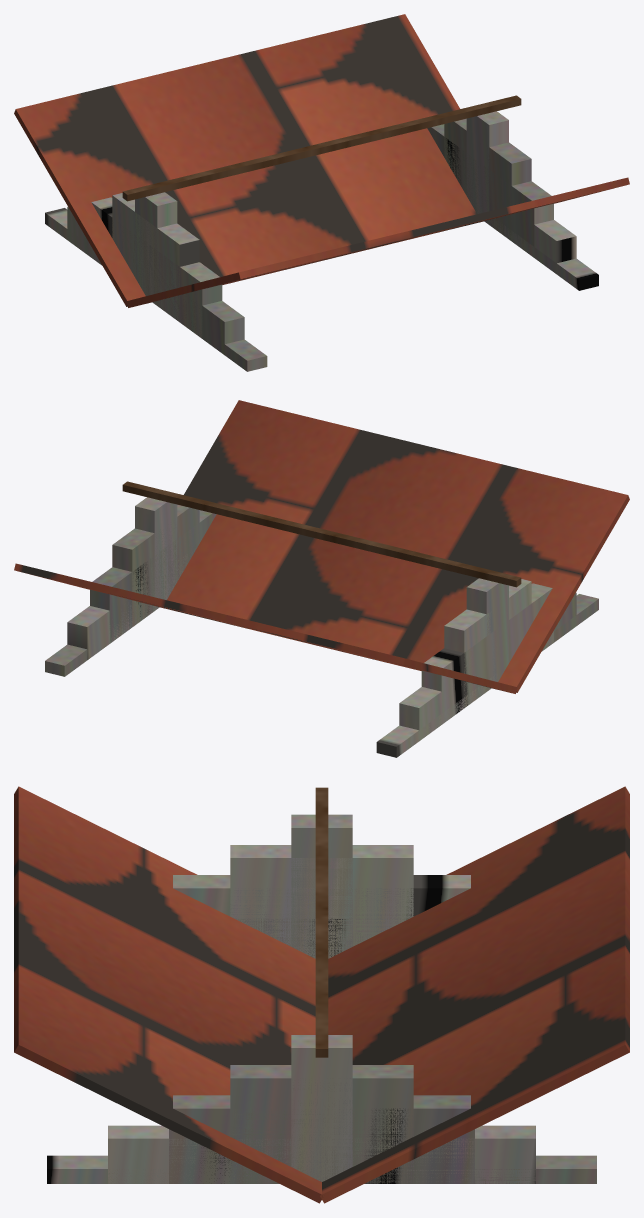
Rendered from CastleKeepRoof.glb.
The picture shows the model from 3 angles, top to bottom: view 1: azimuth 30°, elevation 25°; view 2: azimuth 150°, elevation 25°; view 3: azimuth 270°, elevation 25°; orthographic projection. The views are drawn at different scales.
Visible parts, largest first — view 1: CastleKeepRoof; view 2: CastleKeepRoof; view 3: CastleKeepRoof.
Part boxes in pixels (left/top/right/bottom): CastleKeepRoof: left=14, top=14, right=629, bottom=371; CastleKeepRoof: left=14, top=400, right=629, bottom=757; CastleKeepRoof: left=14, top=786, right=629, bottom=1203.
Bounding box in the file's own units: 8.9 × 2.52 × 8.87.
Materials: 3 (3 with a texture image).
